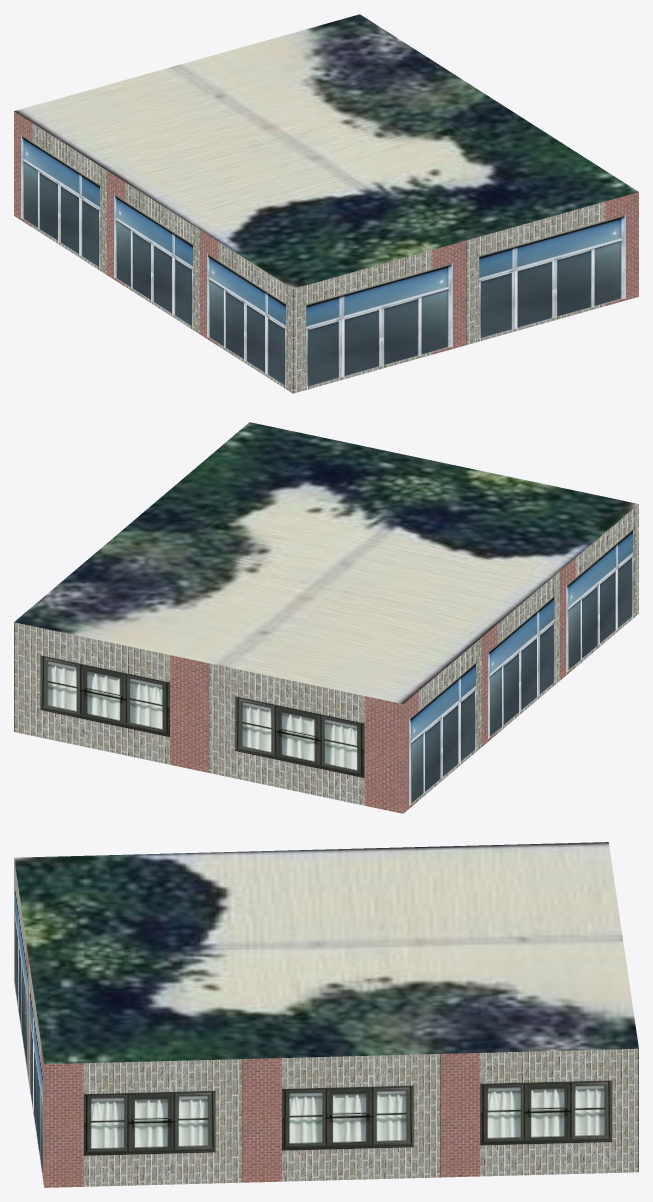
File: tile_LOD8_r1_c4.glb
3 views of the same model, one above another, from view 1: azimuth 30°, elevation 25°; view 2: azimuth 150°, elevation 25°; view 3: azimuth 270°, elevation 25° (orthographic). The views are drawn at different scales.
Bounding box in the file's own units: 14.3 × 3.71 × 17.
3 materials, 3 textured.
